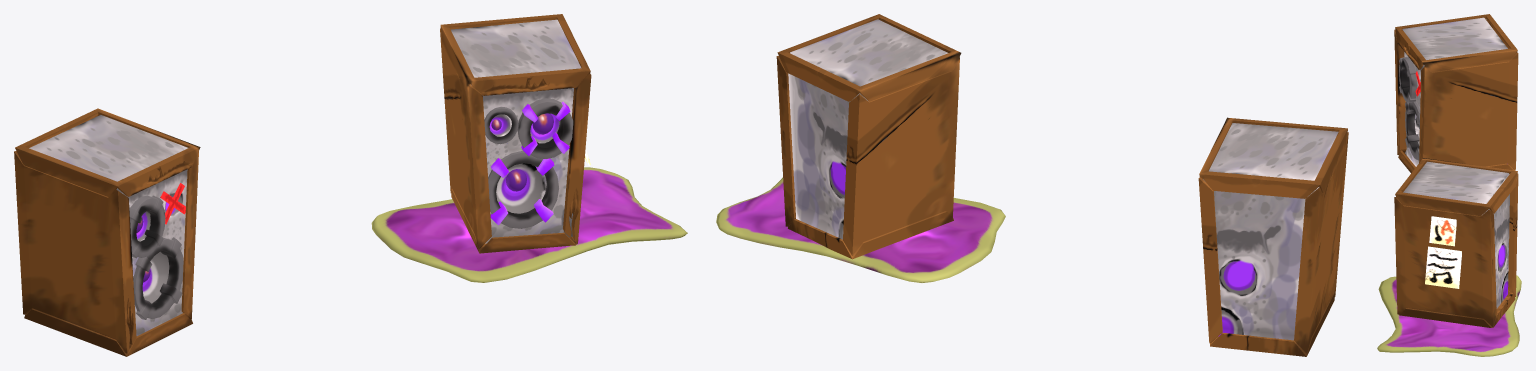
Rendered from Empty_Group_Music_Stand_Lvl01.fbx.
3 renders of one model, left to right at view 1: azimuth 30°, elevation 25°; view 2: azimuth 150°, elevation 25°; view 3: azimuth 270°, elevation 25°, orthographic. The views are drawn at different scales.
Visible parts, largest first — view 1: Main_speakers_Music_Stand_Lvl01.001, Main_speakers_Music_Stand_Lvl01, Main_Carpet_Music_Stand_Lvl01; view 2: Main_speakers_Music_Stand_Lvl01, Main_speakers_Music_Stand_Lvl01.001, Main_Carpet_Music_Stand_Lvl01; view 3: Main_speakers_Music_Stand_Lvl01.001, Main_speakers_Music_Stand_Lvl01, Main_Carpet_Music_Stand_Lvl01, Main_Paper_Music_Stand_Lvl01.
Part boxes in pixels (box(x1,y1,x2,y2)): Main_speakers_Music_Stand_Lvl01.001: box(14, 108, 200, 356); Main_speakers_Music_Stand_Lvl01: box(440, 14, 591, 253); Main_Carpet_Music_Stand_Lvl01: box(371, 167, 687, 282); Main_speakers_Music_Stand_Lvl01: box(776, 14, 961, 259); Main_speakers_Music_Stand_Lvl01.001: box(1198, 117, 1348, 356); Main_Carpet_Music_Stand_Lvl01: box(716, 177, 1005, 282); Main_speakers_Music_Stand_Lvl01.001: box(1394, 14, 1518, 173); Main_speakers_Music_Stand_Lvl01: box(1394, 158, 1518, 327); Main_Carpet_Music_Stand_Lvl01: box(1377, 275, 1521, 356); Main_Paper_Music_Stand_Lvl01: box(1425, 216, 1461, 288).
Size of the model in its own units: 1.88 by 0.5344 by 0.5338.
1 material, 1 textured.
